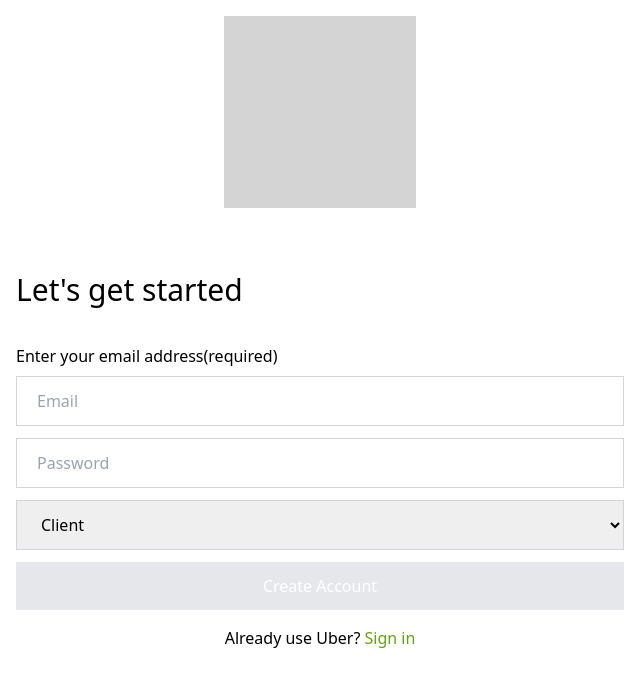
Test case: CreateAccount › should display email validation error
This screenshot has width=641, height=688.
Type "test@mail" into the field with placeholder "Email".
click(320, 401); type("test@mail")  # box x1=16 y1=376 x2=624 y2=426
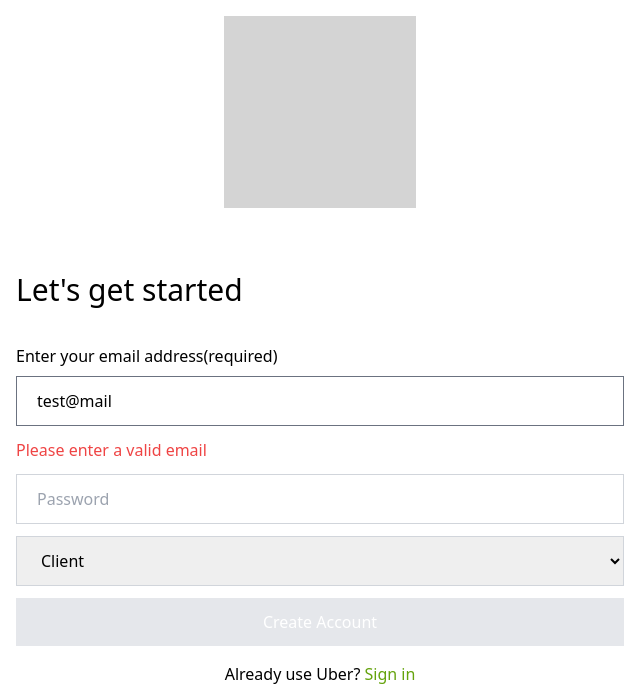
Result: the message reads "Please enter a valid email" at x1=16 y1=439 x2=207 y2=461
Clear the field with placeholder "Email" at (320, 401), box x1=16 y1=376 x2=624 y2=426
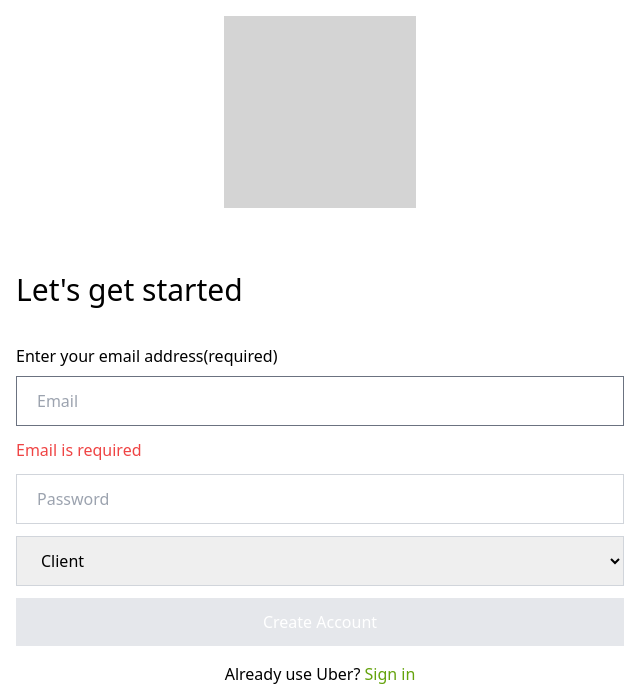
Result: the message reads "Email is required" at x1=16 y1=439 x2=142 y2=461
